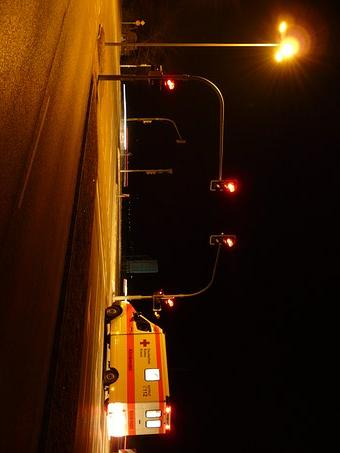trafic: (211, 178, 241, 192), (208, 235, 238, 249)
